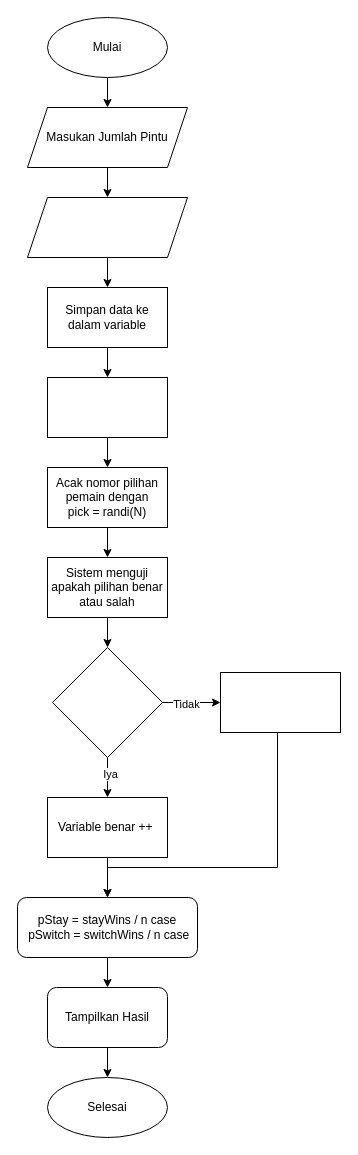
The diagram is 358 pixels wide and 1155 high, and some of its shapes have lost their labels. Each missing label, with the centre of its shape:
"Acak nomor untuk posisi hadia dengan prize = randi(N)" belongs at point 107,407.
"Masukan Jumlah Case" belongs at point 107,227.
"Pilihan Benar" belongs at point 107,702.
"Variable swicht++" belongs at point 280,702.
